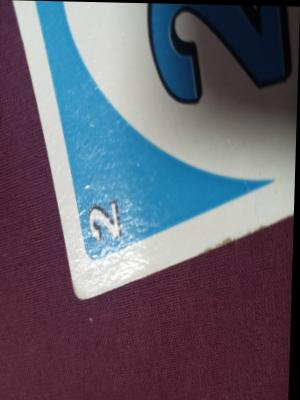blue: (43, 22, 282, 212)
num_2: (85, 198, 129, 251)
